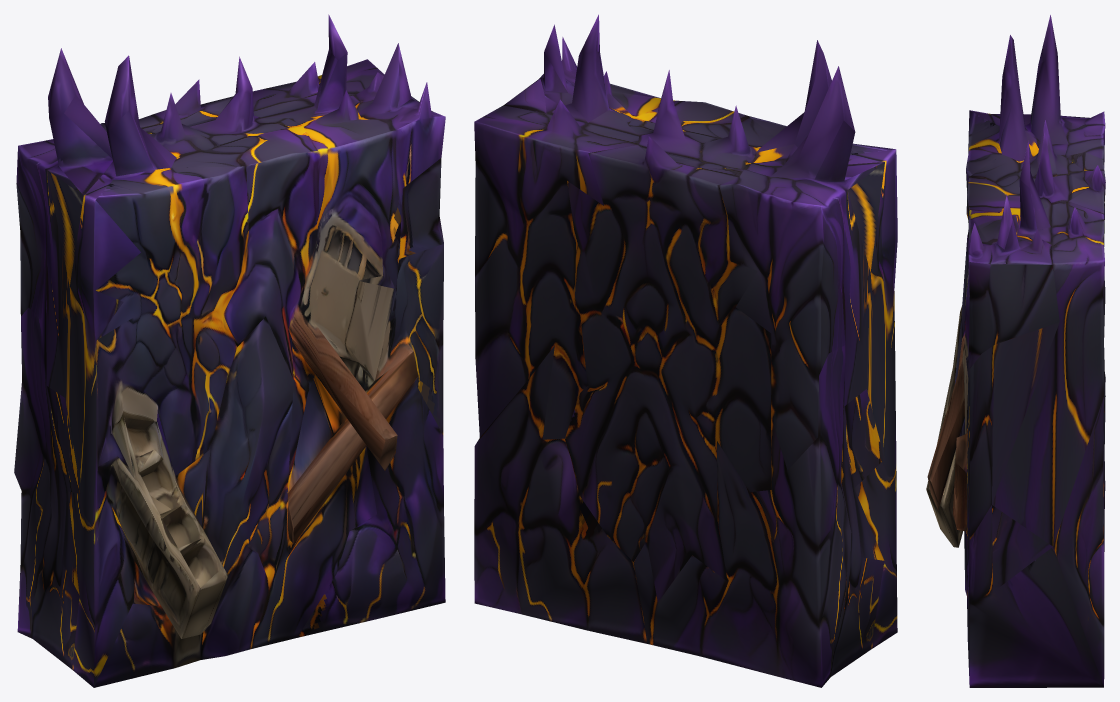
File: HV_WallSeg_Outer.fbx
The picture shows the model from 3 angles, left to right: view 1: azimuth 30°, elevation 25°; view 2: azimuth 150°, elevation 25°; view 3: azimuth 270°, elevation 25°; orthographic projection. The views are drawn at different scales.
Visible parts, largest first — view 1: model; view 2: model; view 3: model.
Boxes of the visible parts, x1,y1,x2,y2 form: model: [14, 14, 445, 687]; model: [474, 14, 897, 687]; model: [926, 15, 1105, 687].
Size of the model in its own units: 16 by 8 by 26.
1 material, 1 textured.
